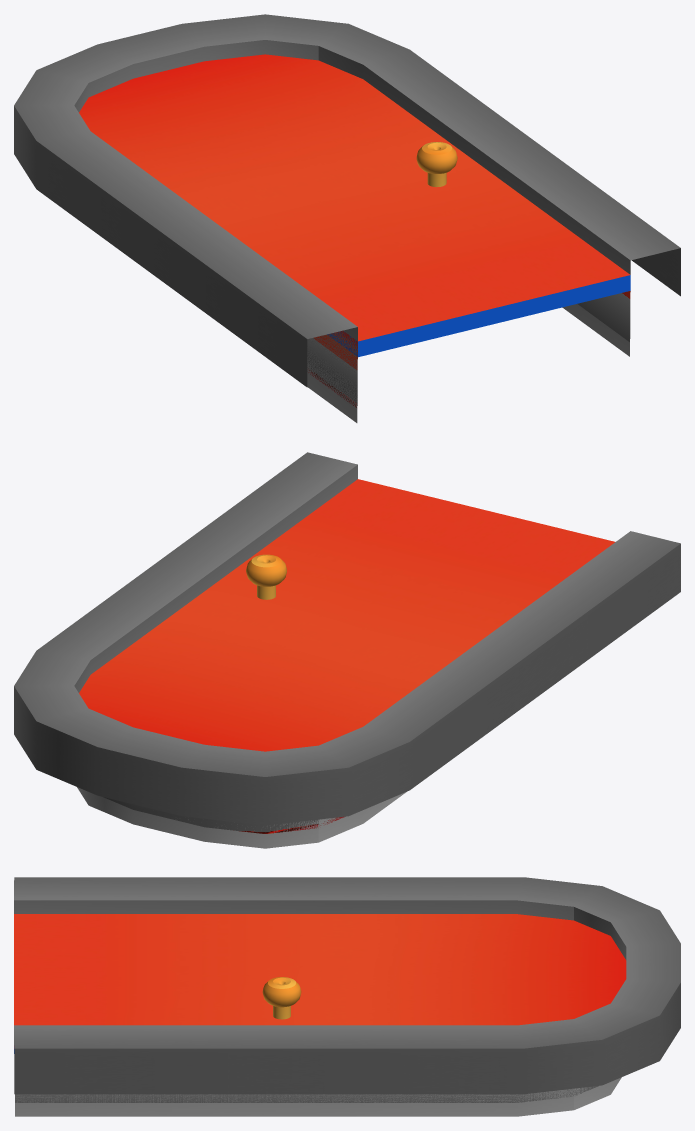
File: Door 2.fbx
The picture shows the model from 3 angles, top to bottom: view 1: azimuth 30°, elevation 25°; view 2: azimuth 150°, elevation 25°; view 3: azimuth 270°, elevation 25°; orthographic projection. The views are drawn at different scales.
Parts seen in each view (by area): view 1: Door.003, Door.002; view 2: Door.002, Door.003; view 3: Door.002, Door.003.
Boxes of the visible parts, bbox=[...] form: Door.003: bbox=[79, 54, 630, 357]; Door.002: bbox=[14, 14, 680, 422]; Door.002: bbox=[14, 452, 680, 848]; Door.003: bbox=[79, 479, 614, 751]; Door.002: bbox=[14, 877, 680, 1116]; Door.003: bbox=[14, 914, 626, 1053].
Size of the model in its own units: 149 by 45.16 by 244.
